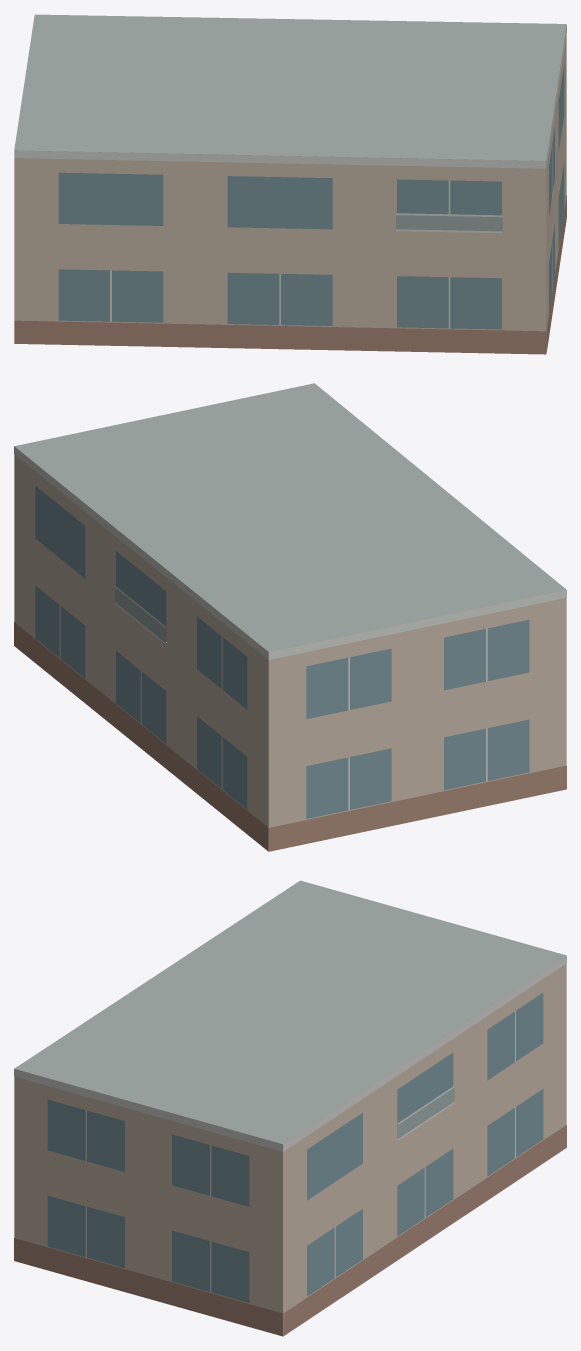
File: survey-upis-32954398.glb
The picture shows the model from 3 angles, top to bottom: view 1: azimuth 30°, elevation 25°; view 2: azimuth 150°, elevation 25°; view 3: azimuth 270°, elevation 25°; orthographic projection. The views are drawn at different scales.
Parts seen in each view (by area): view 1: survey-upis-32954398.tmp; view 2: survey-upis-32954398.tmp; view 3: survey-upis-32954398.tmp.
Boxes of the visible parts, bbox=[...] form: survey-upis-32954398.tmp: bbox=[14, 14, 566, 354]; survey-upis-32954398.tmp: bbox=[14, 383, 566, 851]; survey-upis-32954398.tmp: bbox=[14, 880, 566, 1336].
Size of the model in its own units: 17.97 by 6.1 by 15.91.
